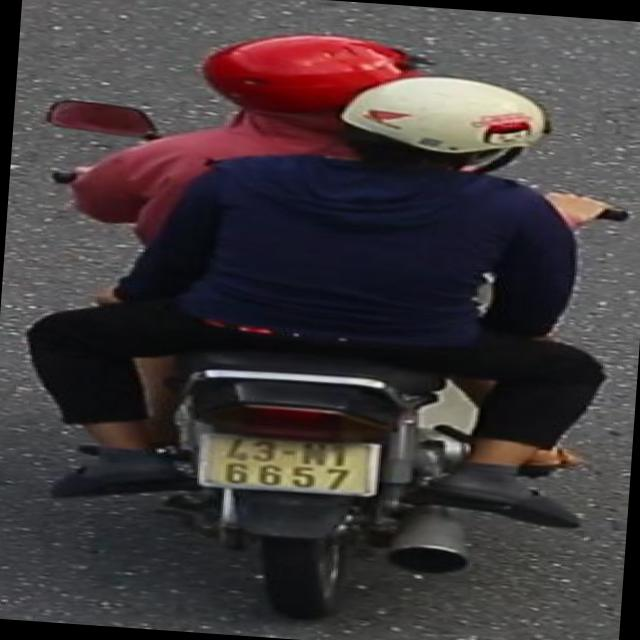LP: (186, 424, 392, 502)
helmet: (185, 20, 446, 142), (320, 67, 562, 197)
